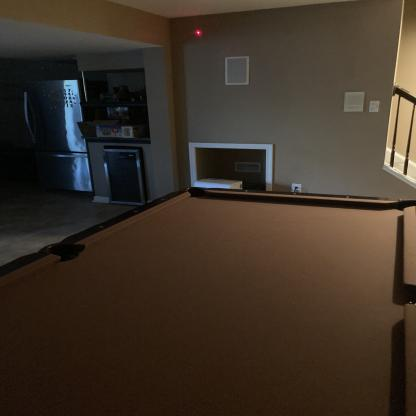target: (192, 27, 206, 36)
